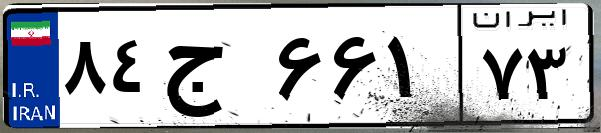1: (385, 28, 445, 110)
3: (525, 38, 570, 115)
4: (110, 28, 158, 98)
6: (270, 28, 330, 110), (330, 28, 385, 110)
7: (475, 38, 525, 113)
8: (57, 26, 110, 100)
ج: (158, 20, 270, 120)
